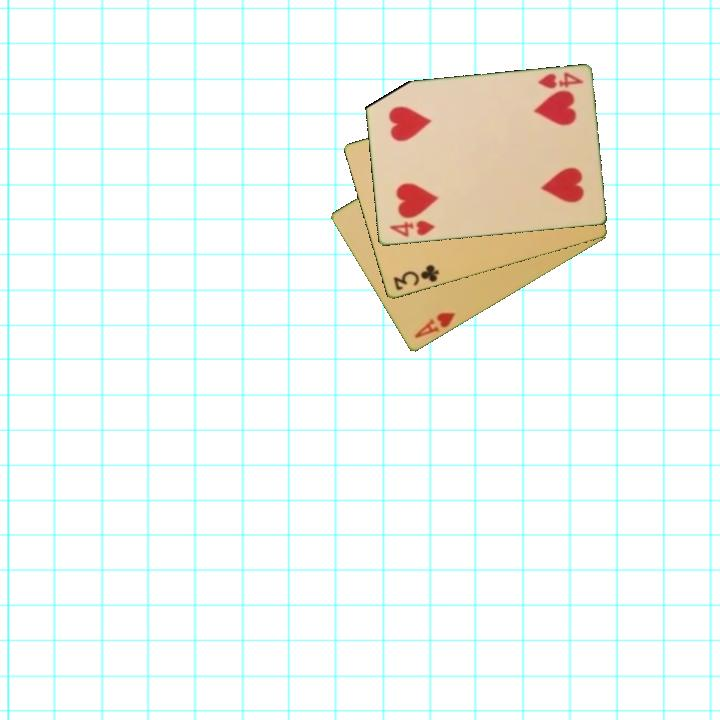3c: (389, 261, 442, 294)
4h: (385, 217, 438, 240), (534, 69, 586, 92)
Ah: (411, 309, 458, 342)
